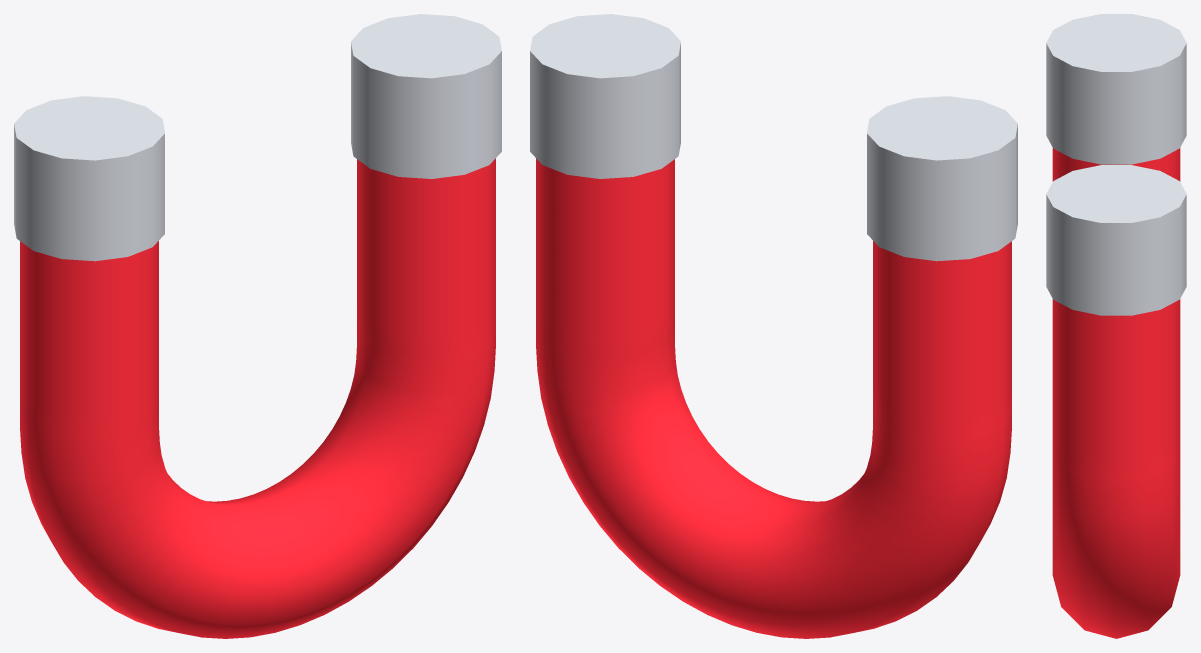
The model's file is magnet.glb.
3 views of the same model, side by side, from view 1: azimuth 30°, elevation 25°; view 2: azimuth 150°, elevation 25°; view 3: azimuth 270°, elevation 25° (orthographic). The views are drawn at different scales.
Parts seen in each view (by area): view 1: Magnet_MagnetRed, Magnet_MagnetTip; view 2: Magnet_MagnetRed, Magnet_MagnetTip; view 3: Magnet_MagnetRed, Magnet_MagnetTip.
Boxes of the visible parts, bbox=[...] form: Magnet_MagnetRed: bbox=[20, 158, 495, 638]; Magnet_MagnetTip: bbox=[14, 14, 501, 261]; Magnet_MagnetRed: bbox=[536, 158, 1011, 638]; Magnet_MagnetTip: bbox=[530, 14, 1017, 261]; Magnet_MagnetRed: bbox=[1052, 148, 1180, 638]; Magnet_MagnetTip: bbox=[1046, 14, 1186, 315].
Size of the model in its own units: 0.7745 by 0.86 by 0.22.
